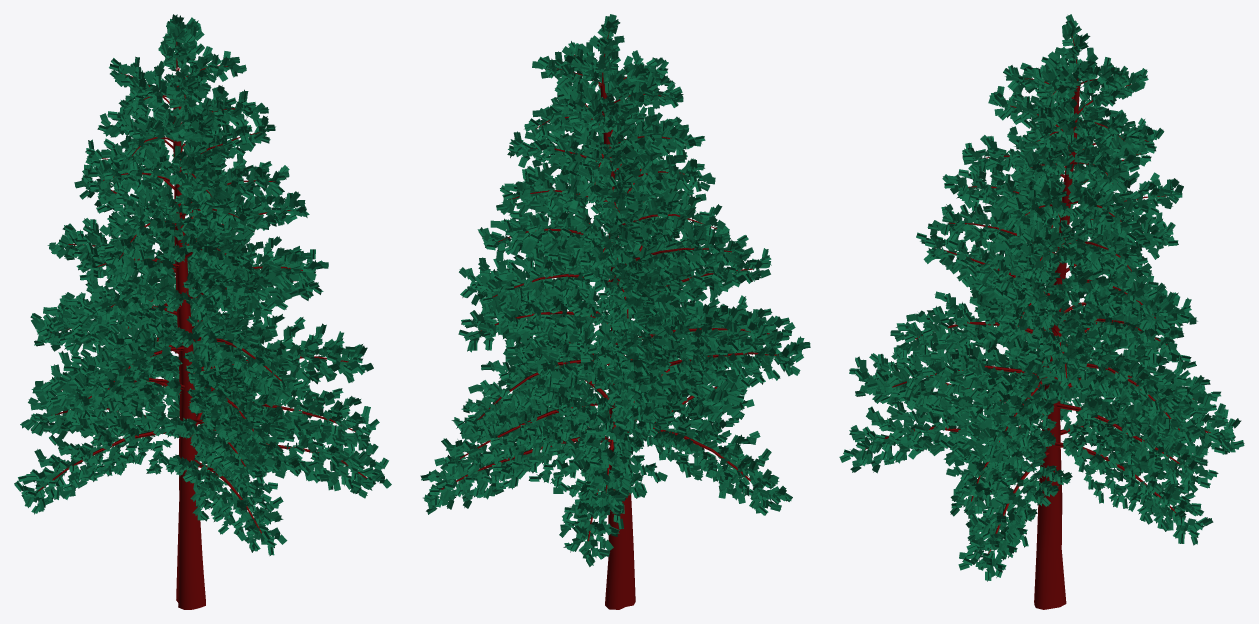
Rendered from Pine.fbx.
The picture shows the model from 3 angles, left to right: view 1: azimuth 30°, elevation 25°; view 2: azimuth 150°, elevation 25°; view 3: azimuth 270°, elevation 25°; orthographic projection. The views are drawn at different scales.
Parts seen in each view (by area): view 1: Foliage001; view 2: Foliage001; view 3: Foliage001.
Part boxes in pixels (bbox=[...]): Foliage001: bbox=[14, 14, 391, 609]; Foliage001: bbox=[420, 14, 810, 609]; Foliage001: bbox=[839, 14, 1244, 609].
Bounding box in the file's own units: 5.27 × 5.44 × 8.7.
